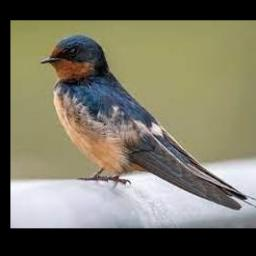Swallow: (42, 33, 256, 210)
